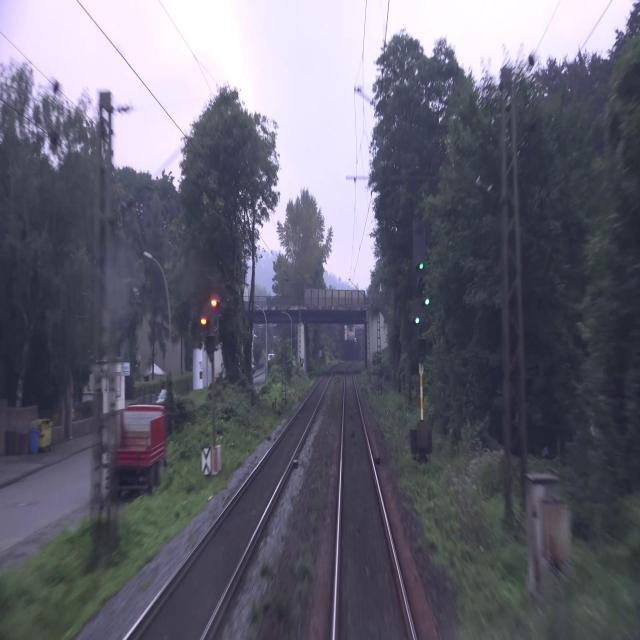rail-track: (129, 372, 330, 639), (337, 367, 412, 639)
